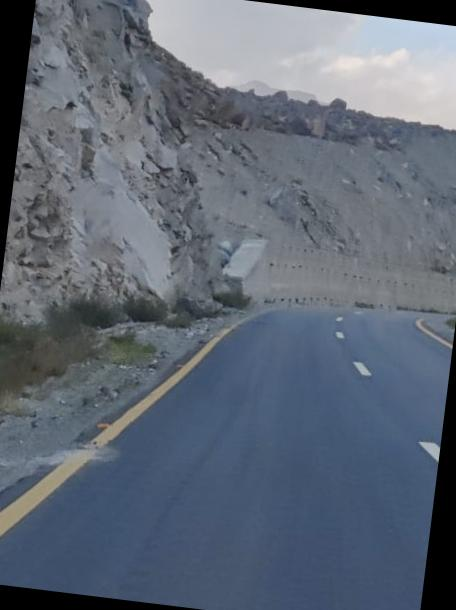right_turn: (234, 250, 456, 375)
